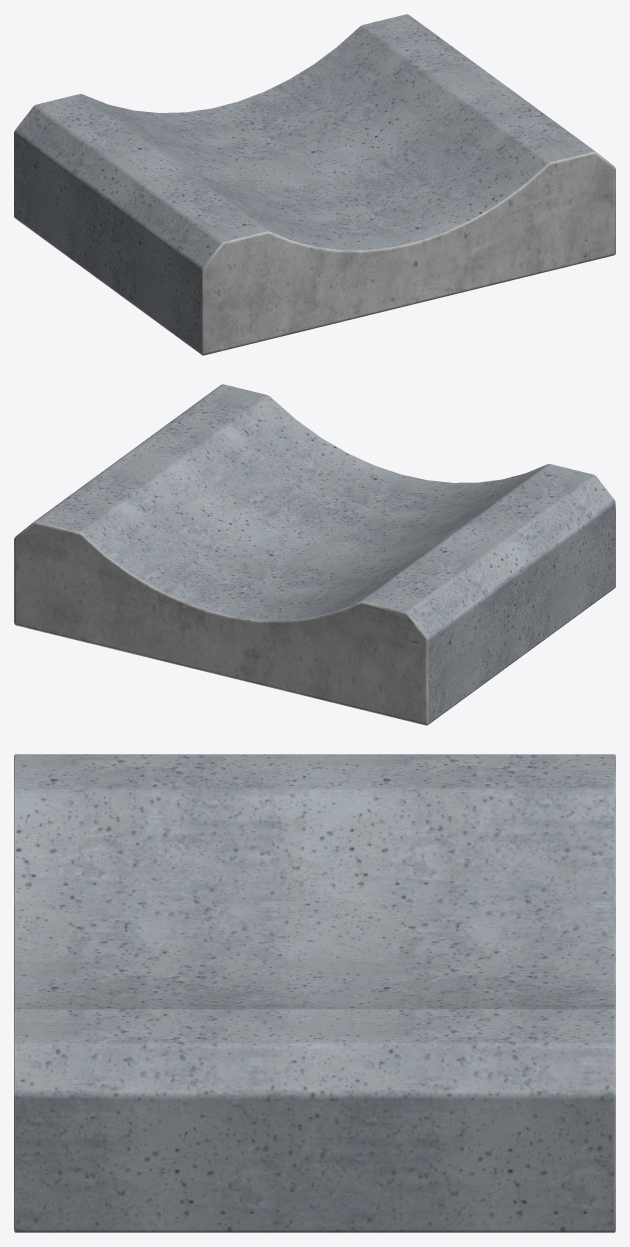
Rendered from Korytko Sciekowe KPED.glb.
The picture shows the model from 3 angles, top to bottom: view 1: azimuth 30°, elevation 25°; view 2: azimuth 150°, elevation 25°; view 3: azimuth 270°, elevation 25°; orthographic projection. The views are drawn at different scales.
Visible parts, largest first — view 1: Kortyko Sciekowe KPED; view 2: Kortyko Sciekowe KPED; view 3: Kortyko Sciekowe KPED.
Boxes of the visible parts, x1=… form: Kortyko Sciekowe KPED: x1=14, y1=14, x2=615, y2=355; Kortyko Sciekowe KPED: x1=14, y1=384, x2=615, y2=725; Kortyko Sciekowe KPED: x1=14, y1=754, x2=615, y2=1232.
Size of the model in its own units: 0.9454 by 0.2372 by 0.7447.
1 material, 1 textured.
